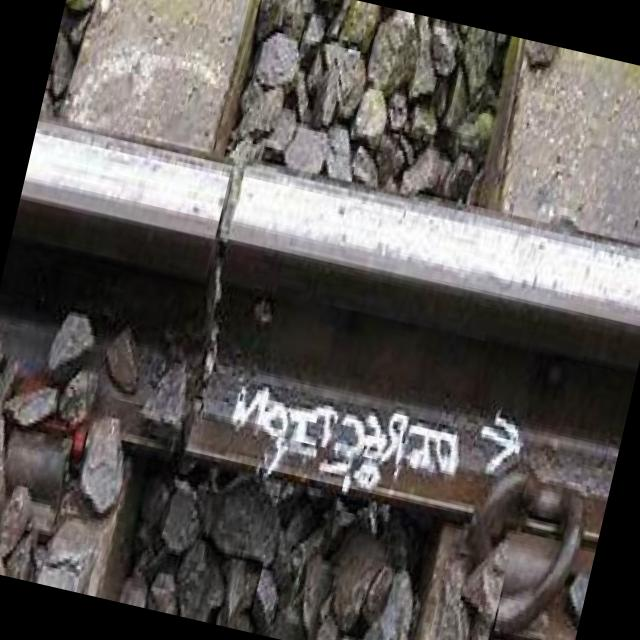defective: (0, 25, 518, 631)
